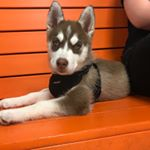puppy: (40, 1, 100, 124)
